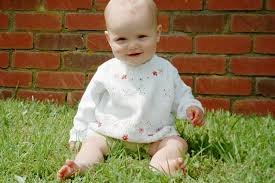child: (55, 1, 206, 181)
